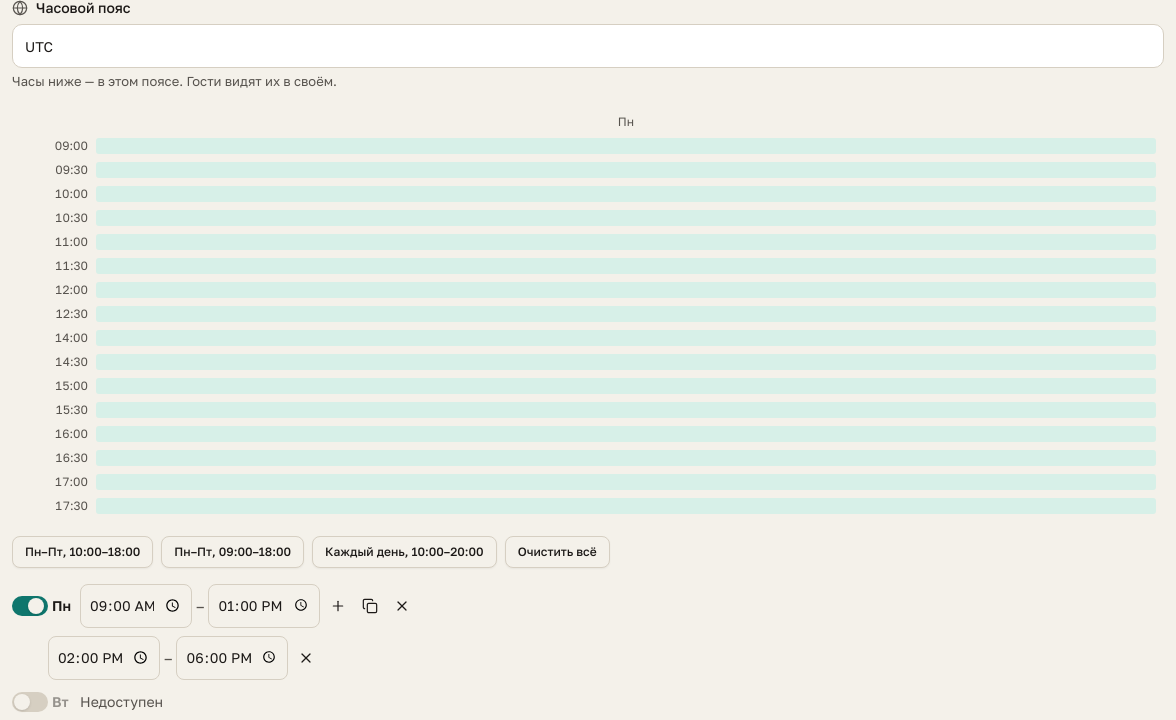
Scenario: AvailabilitySettingsForm › добавляет интервал иконкой +
Click the button named "Добавить интервал: Пн": (338, 606) x1=324 y1=592 x2=352 y2=620
(page scrolled)
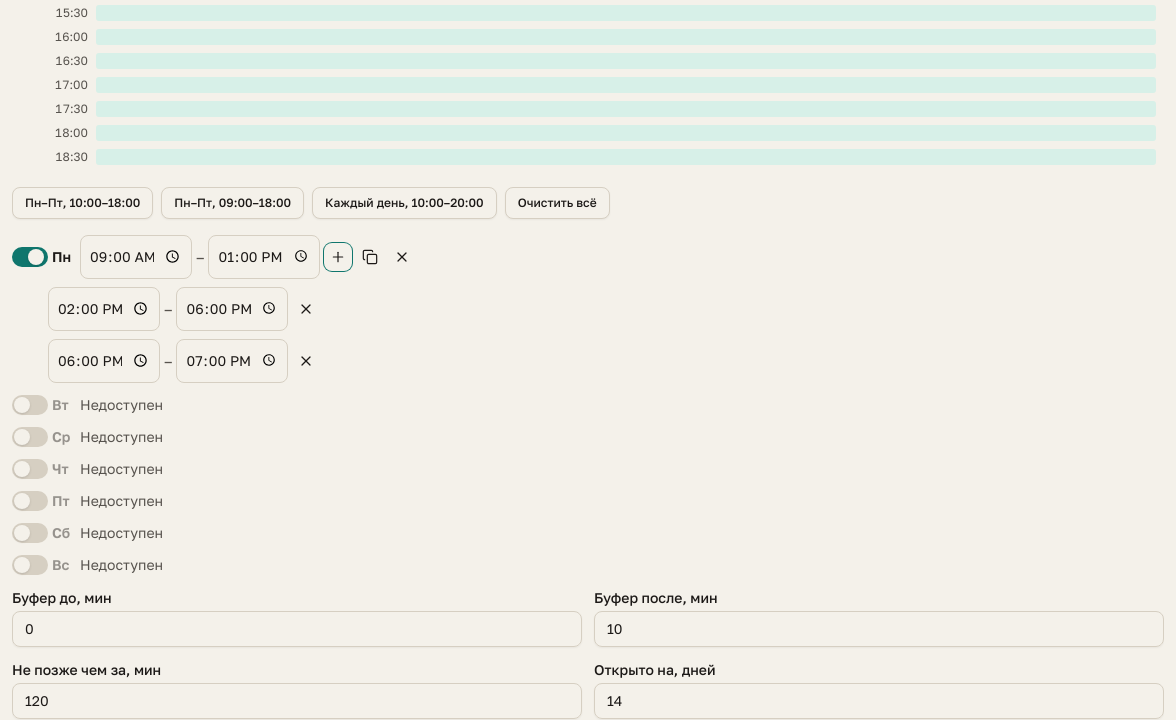
Check: the time field named "Пн: начало 3" is shown, box x1=48 y1=338 x2=160 y2=382
